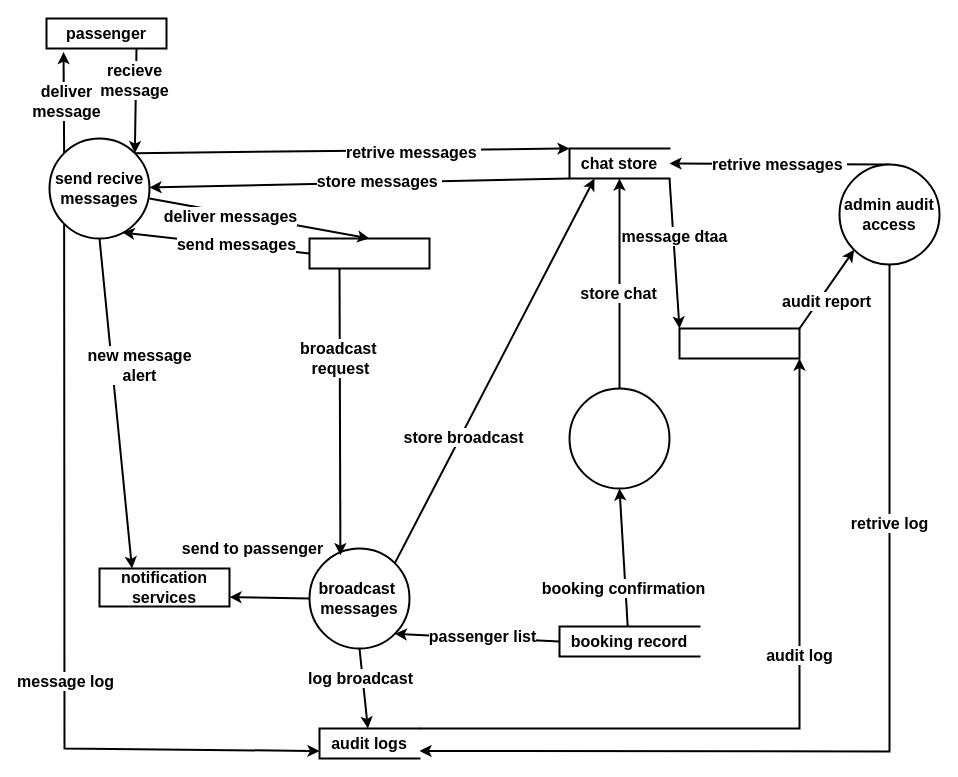
Some shapes in this 958 by 777 pixel diagram are drawn without their labels. Each missing label, with the centre of its shape:
"admin" goes at point 739,343.
"create chat channel" goes at point 619,438.
"driver" goes at point 369,253.
